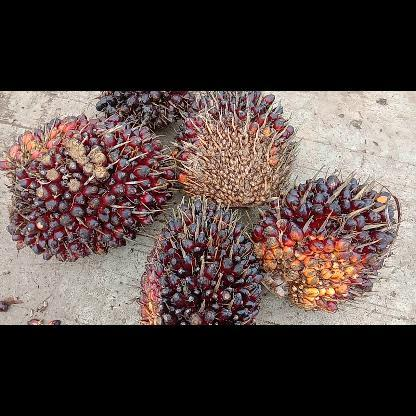TBS mentah: (0, 110, 177, 262), (248, 166, 404, 312), (136, 196, 262, 324), (172, 91, 300, 207), (94, 91, 193, 129)
